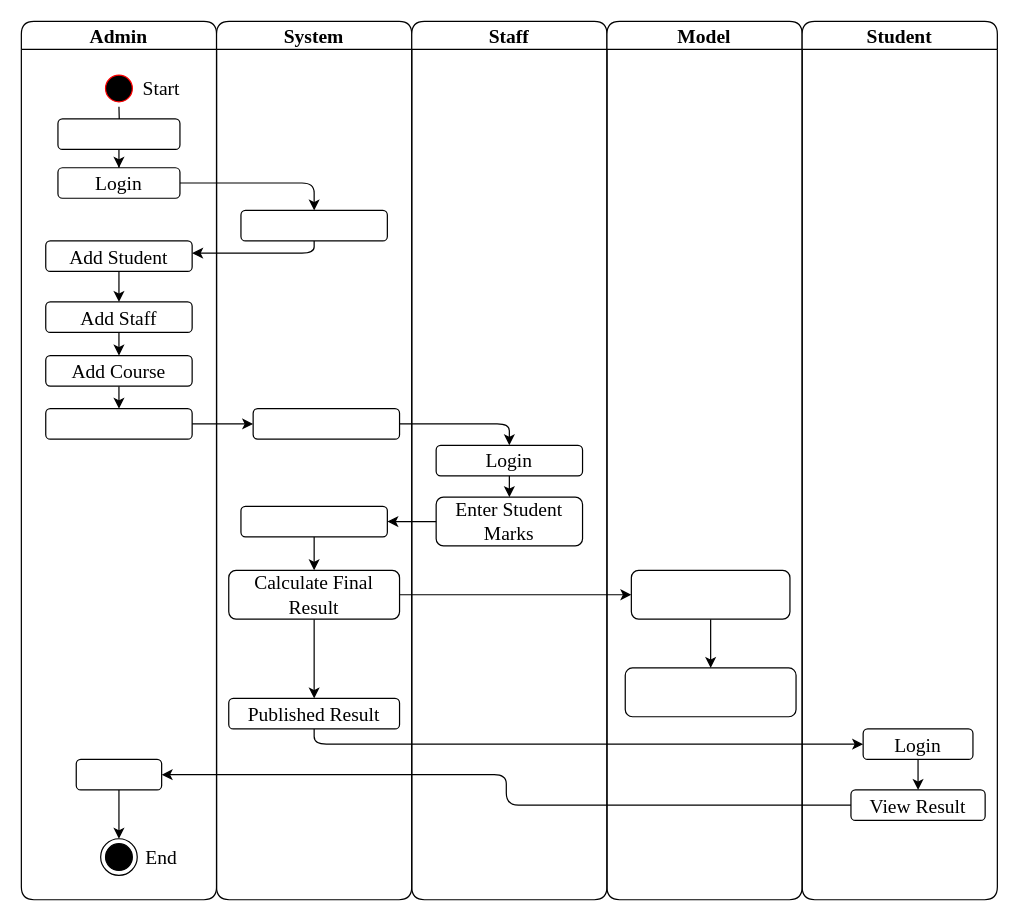
The diagram is 1019 pixels wide and 921 high, and some of its shapes have lost their labels. Here are the shapes that lost their labels. From the top down, the centre of each, then its label:
[118,133]: Open System
[313,225]: Verify Credentials
[118,423]: Add Subject
[326,423]: Store Data
[313,521]: Save Marks
[710,594]: Run Prediction Model
[710,692]: Predict Student Result
[118,774]: Logout
